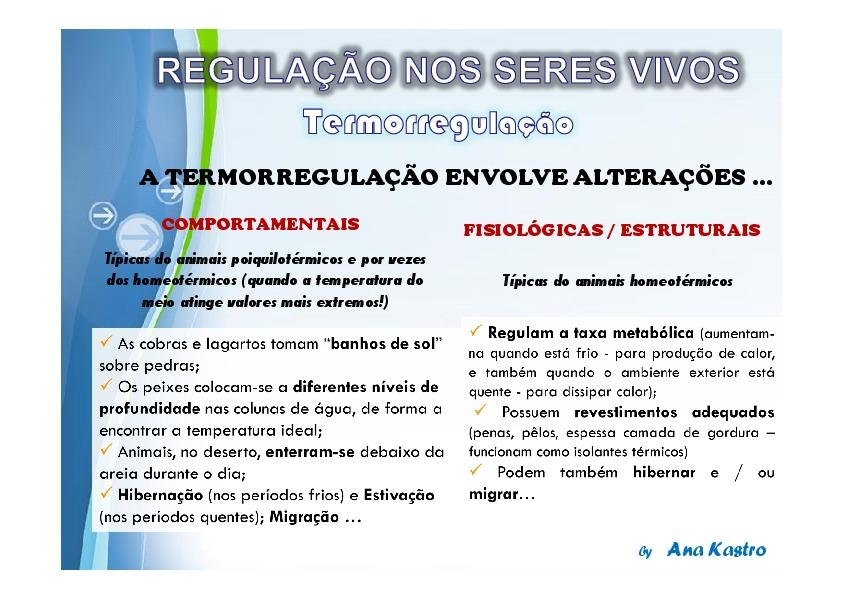paragraph: (79, 250, 464, 531), (455, 266, 827, 529)
subtitle: (462, 217, 772, 253), (158, 210, 370, 241)
title: (122, 32, 802, 206)
